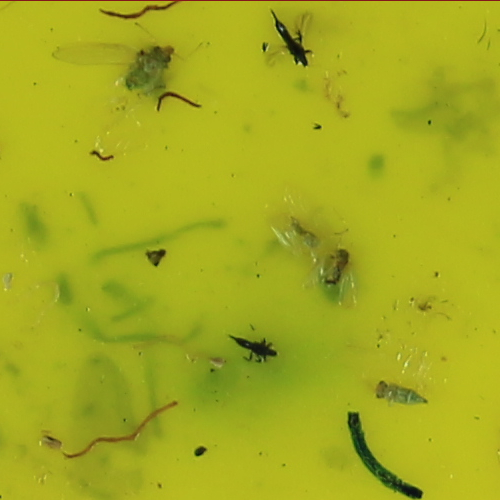psylla: (120, 40, 178, 91), (368, 376, 430, 406)
